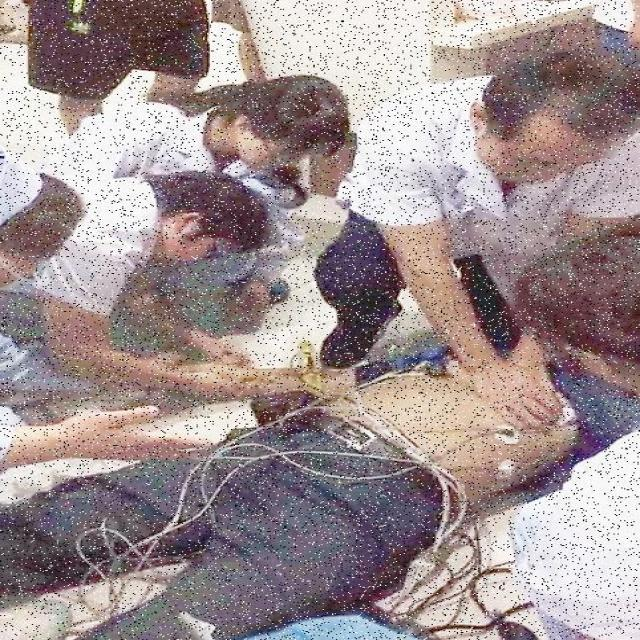fall: (45, 354, 608, 639)
